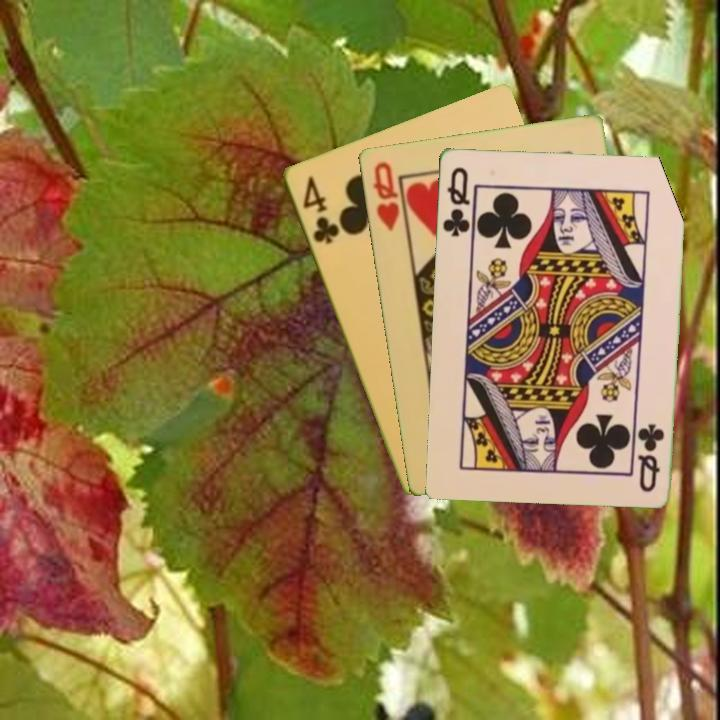4c: (298, 172, 342, 247)
Qc: (439, 163, 476, 242), (635, 420, 667, 494)
Qh: (369, 157, 402, 234)
